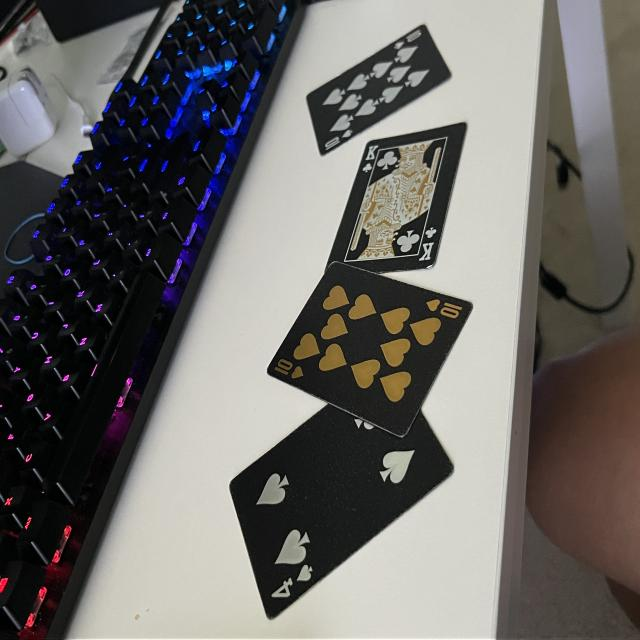10H: (420, 294, 466, 323), (272, 358, 307, 387)
10S: (320, 125, 355, 151), (392, 26, 422, 52)
4S: (270, 563, 312, 605)
KC: (420, 227, 436, 264), (362, 143, 379, 174)
